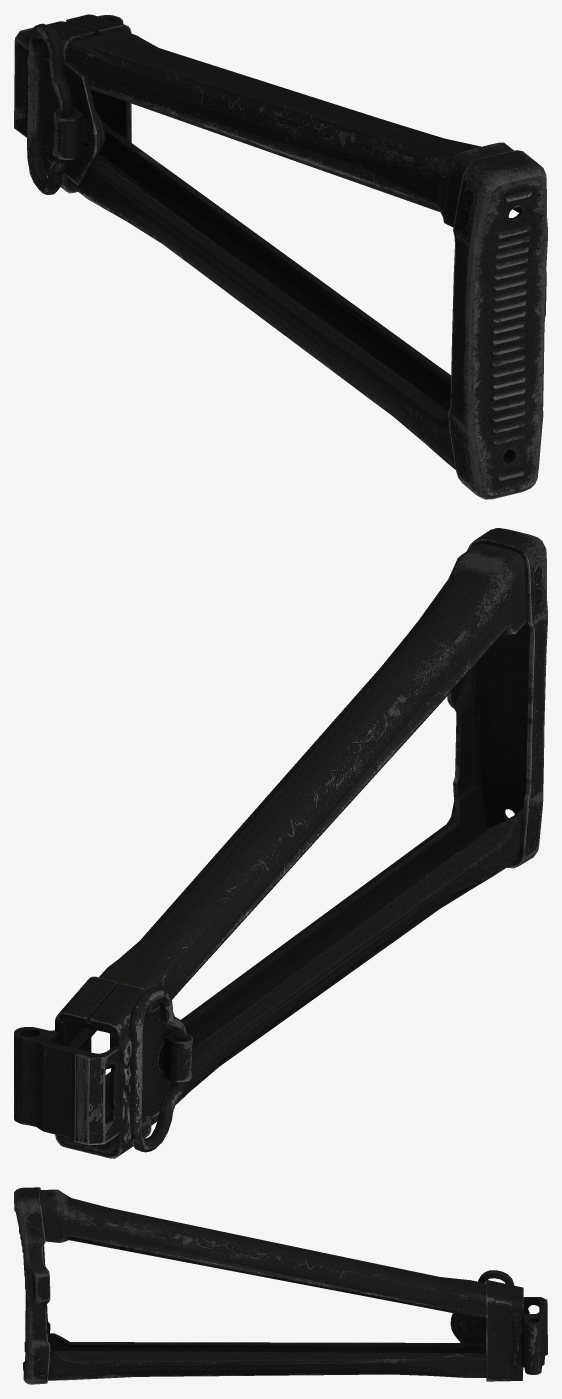
The picture shows the model from 3 angles, top to bottom: view 1: azimuth 30°, elevation 25°; view 2: azimuth 150°, elevation 25°; view 3: azimuth 270°, elevation 25°; orthographic projection. The views are drawn at different scales.
Visible parts, largest first — view 1: TW_57dc347d245977596754e7a1_PZ_Import; view 2: TW_57dc347d245977596754e7a1_PZ_Import; view 3: TW_57dc347d245977596754e7a1_PZ_Import.
Boxes of the visible parts, x1,y1,x2,y2 form: TW_57dc347d245977596754e7a1_PZ_Import: (14, 14, 547, 499); TW_57dc347d245977596754e7a1_PZ_Import: (14, 528, 547, 1158); TW_57dc347d245977596754e7a1_PZ_Import: (14, 1187, 547, 1384).
Bounding box in the file's own units: 0.0218 × 0.1445 × 0.0558.
Materials: 1 (1 with a texture image).
